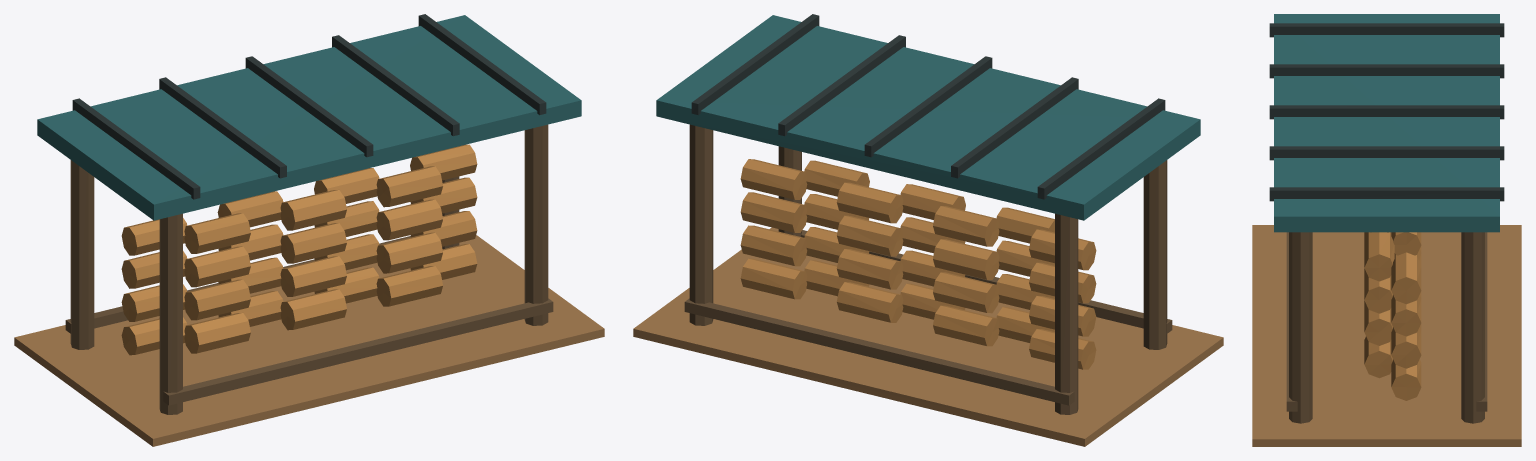
File: wood-pile.source.glb
3 views of the same model, side by side, from view 1: azimuth 30°, elevation 25°; view 2: azimuth 150°, elevation 25°; view 3: azimuth 270°, elevation 25° (orthographic). The views are drawn at different scales.
Visible parts, largest first — view 1: wood-pile-roof-main-mesh, wood-pile-dirt-pad-mesh, wood-pile-lower-rail-0.88-mesh, wood-pile-post-1.9-0.8-mesh, wood-pile-post--1.9-0.8-mesh, wood-pile-post--1.9--0.8-mesh, wood-pile-roof-rib-0-mesh, wood-pile-roof-rib--1.8-mesh, wood-pile-roof-rib-1.8-mesh, wood-pile-roof-rib-0.9-mesh, wood-pile-roof-rib--0.9-mesh, wood-pile-split-log-0.67-1-mesh (+28 smaller); view 2: wood-pile-roof-main-mesh, wood-pile-dirt-pad-mesh, wood-pile-lower-rail--0.88-mesh, wood-pile-post-1.9--0.8-mesh, wood-pile-post--1.9--0.8-mesh, wood-pile-post--1.9-0.8-mesh, wood-pile-roof-rib-0-mesh, wood-pile-roof-rib--1.8-mesh, wood-pile-roof-rib-1.8-mesh, wood-pile-roof-rib-0.9-mesh, wood-pile-roof-rib--0.9-mesh, wood-pile-split-log-0.67-6-mesh (+29 smaller); view 3: wood-pile-dirt-pad-mesh, wood-pile-roof-main-mesh, wood-pile-post-1.9--0.8-mesh, wood-pile-post-1.9-0.8-mesh, wood-pile-roof-rib--1.8-mesh, wood-pile-roof-rib--0.9-mesh, wood-pile-roof-rib-0-mesh, wood-pile-roof-rib-0.9-mesh, wood-pile-roof-rib-1.8-mesh, wood-pile-split-log-1.33-6-mesh, wood-pile-split-log-1.33-5-mesh, wood-pile-split-log-0.34-6-mesh (+8 smaller).
Part boxes in pixels (bbox=[...]): wood-pile-roof-main-mesh: bbox=[37, 15, 581, 220]; wood-pile-dirt-pad-mesh: bbox=[14, 235, 604, 446]; wood-pile-lower-rail-0.88-mesh: bbox=[163, 298, 553, 405]; wood-pile-post-1.9-0.8-mesh: bbox=[524, 124, 548, 325]; wood-pile-post--1.9-0.8-mesh: bbox=[159, 213, 182, 414]; wood-pile-post--1.9--0.8-mesh: bbox=[70, 160, 94, 349]; wood-pile-roof-rib-0-mesh: bbox=[245, 56, 373, 157]; wood-pile-roof-rib--1.8-mesh: bbox=[72, 98, 200, 199]; wood-pile-roof-rib-1.8-mesh: bbox=[418, 14, 546, 115]; wood-pile-roof-rib-0.9-mesh: bbox=[332, 35, 459, 136]; wood-pile-roof-rib--0.9-mesh: bbox=[159, 77, 286, 178]; wood-pile-split-log-0.67-1-mesh: bbox=[184, 279, 250, 320]; wood-pile-roof-main-mesh: bbox=[656, 15, 1200, 220]; wood-pile-dirt-pad-mesh: bbox=[633, 227, 1223, 446]; wood-pile-lower-rail--0.88-mesh: bbox=[684, 298, 1074, 405]; wood-pile-post-1.9--0.8-mesh: bbox=[689, 124, 713, 325]; wood-pile-post--1.9--0.8-mesh: bbox=[1055, 213, 1078, 414]; wood-pile-post--1.9-0.8-mesh: bbox=[1143, 160, 1167, 349]; wood-pile-roof-rib-0-mesh: bbox=[864, 56, 992, 157]; wood-pile-roof-rib--1.8-mesh: bbox=[1037, 98, 1165, 199]; wood-pile-roof-rib-1.8-mesh: bbox=[691, 14, 819, 115]; wood-pile-roof-rib-0.9-mesh: bbox=[778, 35, 905, 136]; wood-pile-roof-rib--0.9-mesh: bbox=[951, 77, 1078, 178]; wood-pile-split-log-0.67-6-mesh: bbox=[740, 225, 807, 266]; wood-pile-dirt-pad-mesh: bbox=[1252, 225, 1521, 446]; wood-pile-roof-main-mesh: bbox=[1274, 14, 1499, 232]; wood-pile-post-1.9--0.8-mesh: bbox=[1461, 232, 1484, 423]; wood-pile-post-1.9-0.8-mesh: bbox=[1289, 232, 1312, 423]; wood-pile-roof-rib--1.8-mesh: bbox=[1269, 23, 1504, 37]; wood-pile-roof-rib--0.9-mesh: bbox=[1269, 64, 1504, 78]; wood-pile-roof-rib-0-mesh: bbox=[1269, 105, 1504, 119]; wood-pile-roof-rib-0.9-mesh: bbox=[1269, 146, 1504, 160]; wood-pile-roof-rib-1.8-mesh: bbox=[1269, 187, 1504, 201]; wood-pile-split-log-1.33-6-mesh: bbox=[1391, 252, 1421, 304]; wood-pile-split-log-1.33-5-mesh: bbox=[1364, 232, 1394, 281]; wood-pile-split-log-0.34-6-mesh: bbox=[1391, 359, 1421, 400].
Bounding box in the file's own units: 4.7 × 2.38 × 2.5.
